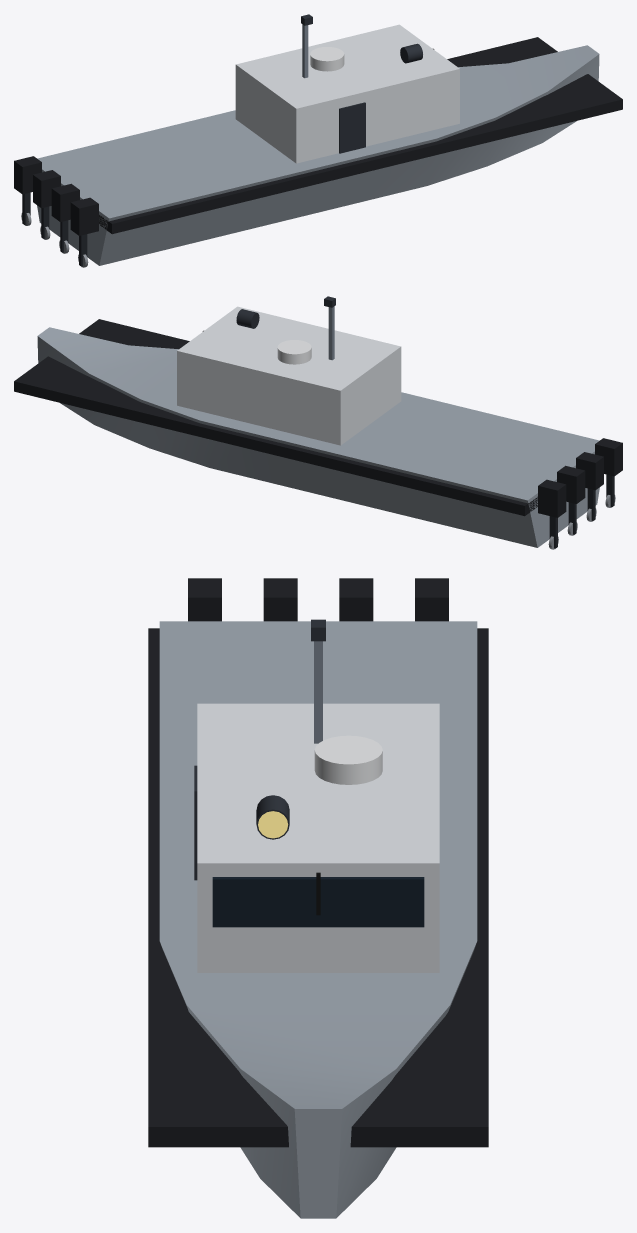
File: ship_v1.glb
3 views of the same model, one above another, from view 1: azimuth 30°, elevation 25°; view 2: azimuth 150°, elevation 25°; view 3: azimuth 270°, elevation 25° (orthographic). The views are drawn at different scales.
Visible parts, largest first — view 1: Hull__Hull, Cabin__Cabin, Hull__Fender, Cabin__Door_panel, Transom__Outboard_4_cowl, Transom__Outboard_3_cowl, Transom__Outboard_1_cowl, Transom__Outboard_2_cowl, Roof__Radome, Mast__Mast, Roof__Searchlight_housing; view 2: Hull__Hull, Cabin__Cabin, Hull__Fender, Transom__Outboard_1_cowl, Transom__Outboard_2_cowl, Transom__Outboard_4_cowl, Transom__Outboard_3_cowl, Roof__Radome, Mast__Mast, Roof__Searchlight_housing; view 3: Hull__Hull, Cabin__Cabin, Hull__Fender, Cabin__Windows, Roof__Radome, Transom__Outboard_2_cowl, Transom__Outboard_3_cowl, Transom__Outboard_1_cowl, Transom__Outboard_4_cowl, Mast__Mast.
Part boxes in pixels (x1,y1,x2,y2): Hull__Hull: (37,45,599,265); Cabin__Cabin: (235,24,459,163); Hull__Fender: (99,37,622,234); Cabin__Door_panel: (339,102,365,153); Transom__Outboard_4_cowl: (70,197,98,235); Transom__Outboard_3_cowl: (51,183,79,221); Transom__Outboard_1_cowl: (14,156,41,194); Transom__Outboard_2_cowl: (33,170,60,208); Roof__Radome: (310,47,344,71); Mast__Mast: (302,24,308,78); Roof__Searchlight_housing: (400,43,422,63); Hull__Hull: (37,327,599,547); Cabin__Cabin: (177,306,401,445); Hull__Fender: (14,319,537,516); Transom__Outboard_1_cowl: (538,479,566,517); Transom__Outboard_2_cowl: (557,465,585,503); Transom__Outboard_4_cowl: (595,438,622,476); Transom__Outboard_3_cowl: (576,452,603,490); Roof__Radome: (277,340,311,364); Mast__Mast: (328,306,334,360); Roof__Searchlight_housing: (236,309,259,328); Hull__Hull: (159,621,477,1218); Cabin__Cabin: (197,703,439,972); Hull__Fender: (148,628,488,1147); Cabin__Windows: (212,877,424,927); Roof__Radome: (314,735,382,784); Transom__Outboard_2_cowl: (339,578,373,621); Transom__Outboard_3_cowl: (263,578,297,621); Transom__Outboard_1_cowl: (415,578,448,621); Transom__Outboard_4_cowl: (188,578,221,621); Mast__Mast: (314,641,322,743).
Bounding box in the file's own units: 16.7 × 4.95 × 4.5.
